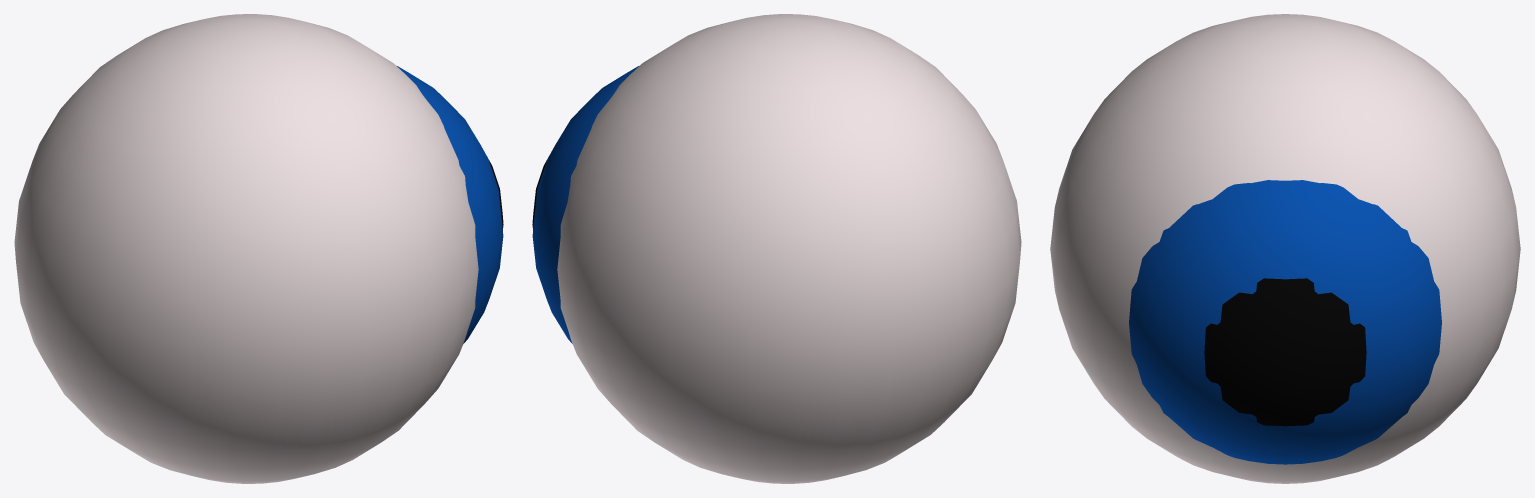
Rendered from eyeball.fbx.
3 renders of one model, left to right at view 1: azimuth 30°, elevation 25°; view 2: azimuth 150°, elevation 25°; view 3: azimuth 270°, elevation 25°, orthographic.
Visible parts, largest first — view 1: Sphere.002; view 2: Sphere.002; view 3: Sphere.002.
Boxes of the visible parts, bbox=[...] form: Sphere.002: bbox=[14, 14, 503, 483]; Sphere.002: bbox=[532, 14, 1021, 483]; Sphere.002: bbox=[1050, 14, 1520, 483].
Size of the model in its own units: 184 by 170 by 170.
